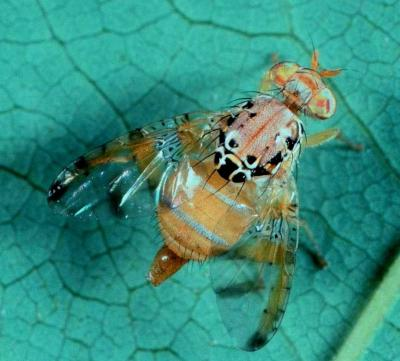Fruit fly: (74, 53, 356, 335)
